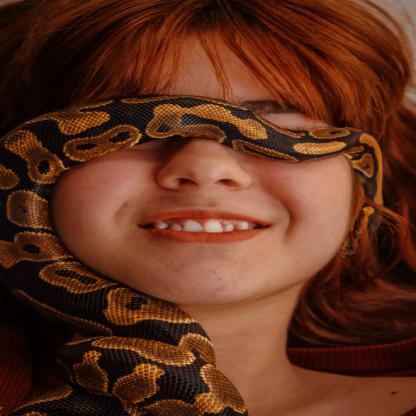Mouth: (135, 209, 275, 244)
Nose: (156, 138, 252, 192)
